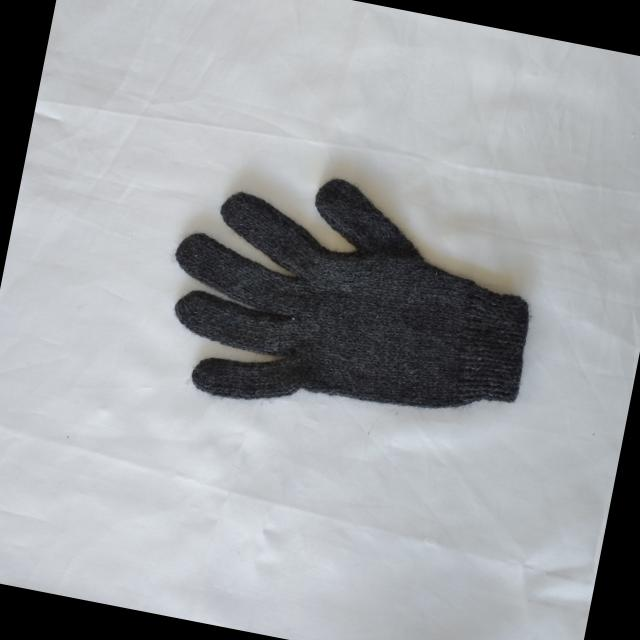Guante: (150, 148, 554, 454)
